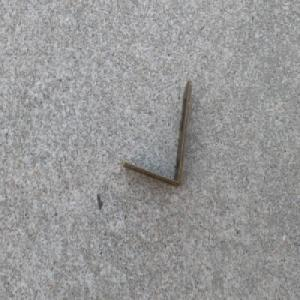MetalPart: (122, 79, 193, 188)
